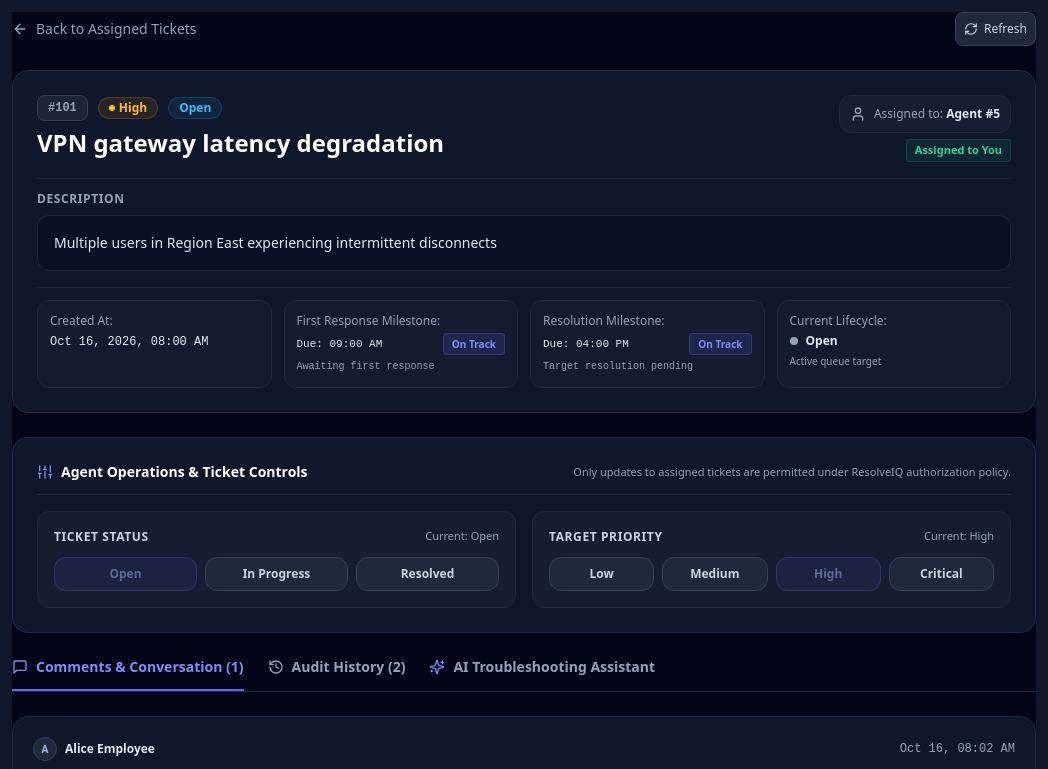
Agent Workspace — Dashboard, Assigned Queue, Ticket Management & AI Support › TicketDetailPage — Agent Experience & SLA Workflow › handles 403 Forbidden on update when ticket is not assigned to agent
expect the heading "VPN gateway latency degradation" is shown: met, box [37, 127, 444, 159]
// Try setting status to Resolved
Click the button "Resolved": (428, 574) [356, 557, 499, 591]
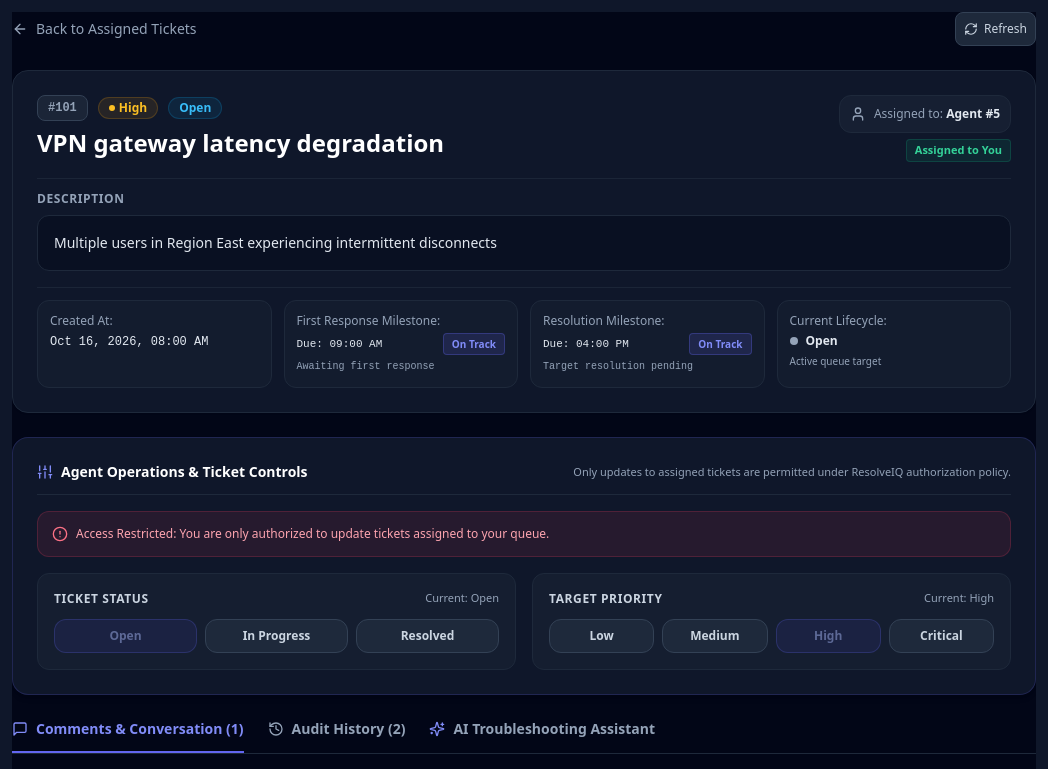
expect the text "Access Restricted: You are only authorized to update tickets assigned to your queue" is shown: met, box [76, 525, 549, 542]
